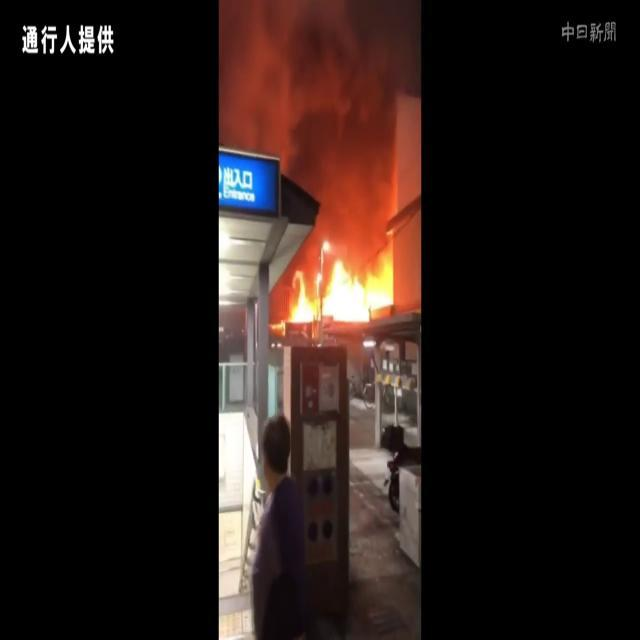Fire: (286, 235, 400, 333)
Smoke: (219, 1, 421, 220)
